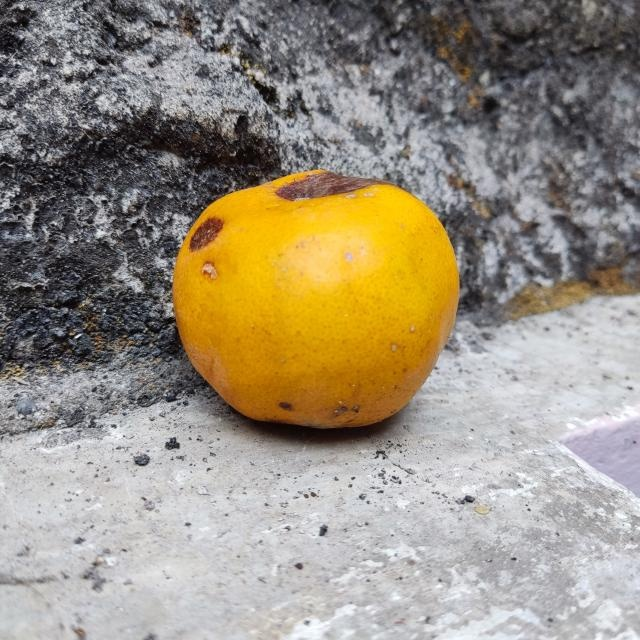agrume: (171, 168, 459, 431)
